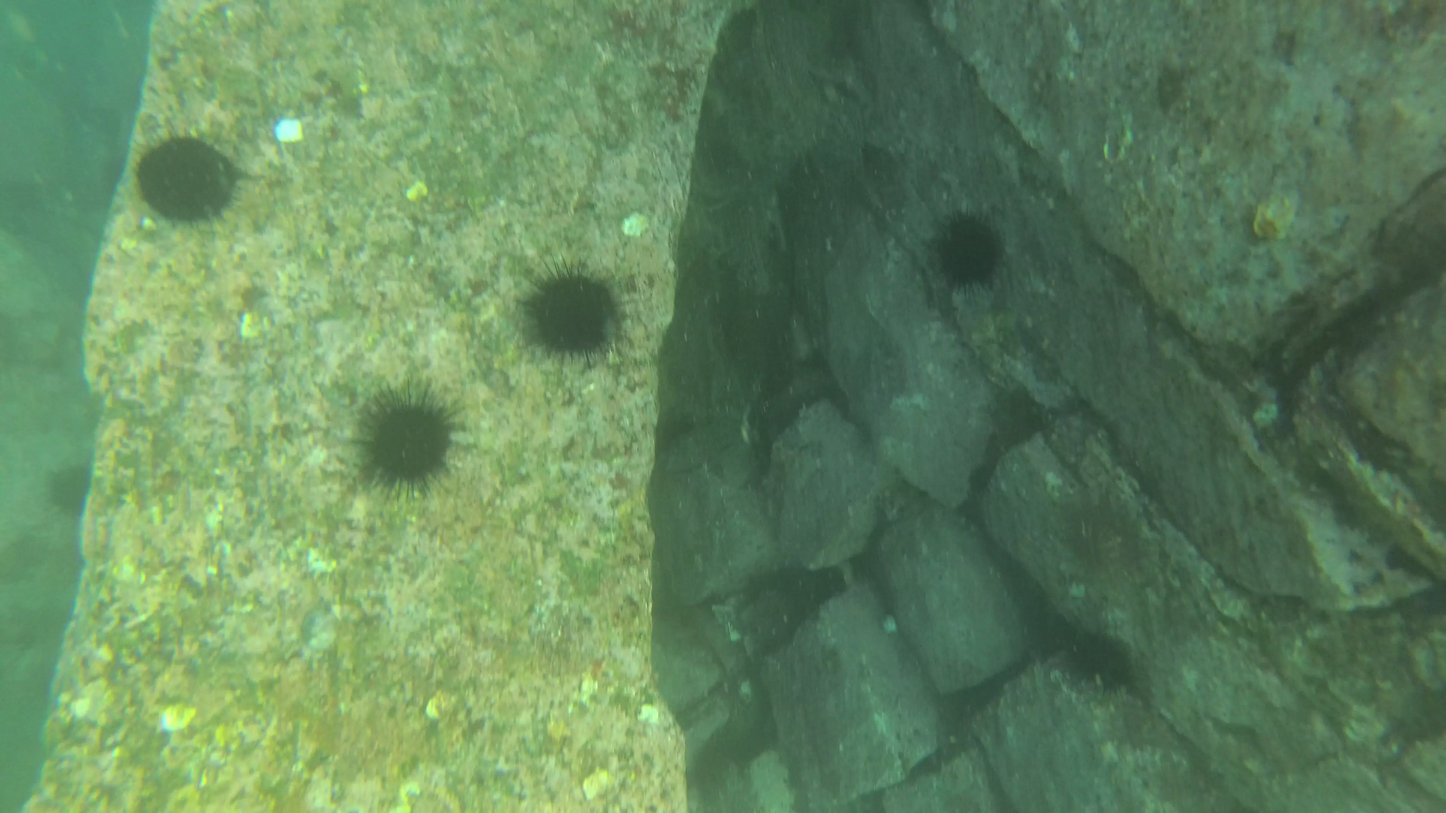starfish: (349, 382, 480, 503), (526, 255, 627, 372), (131, 132, 237, 230), (925, 212, 1014, 298), (1057, 625, 1147, 695), (38, 462, 99, 514)
